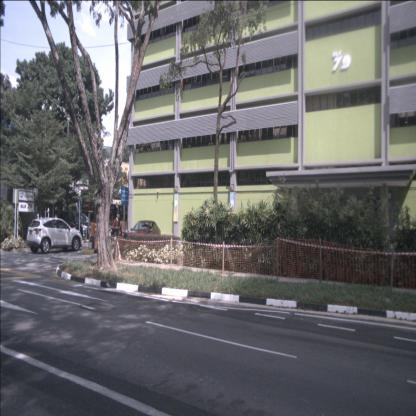human-pedestrian-adult: (111, 209, 124, 262)
vehicle-car: (26, 216, 82, 254), (59, 210, 96, 242), (128, 221, 161, 249)
